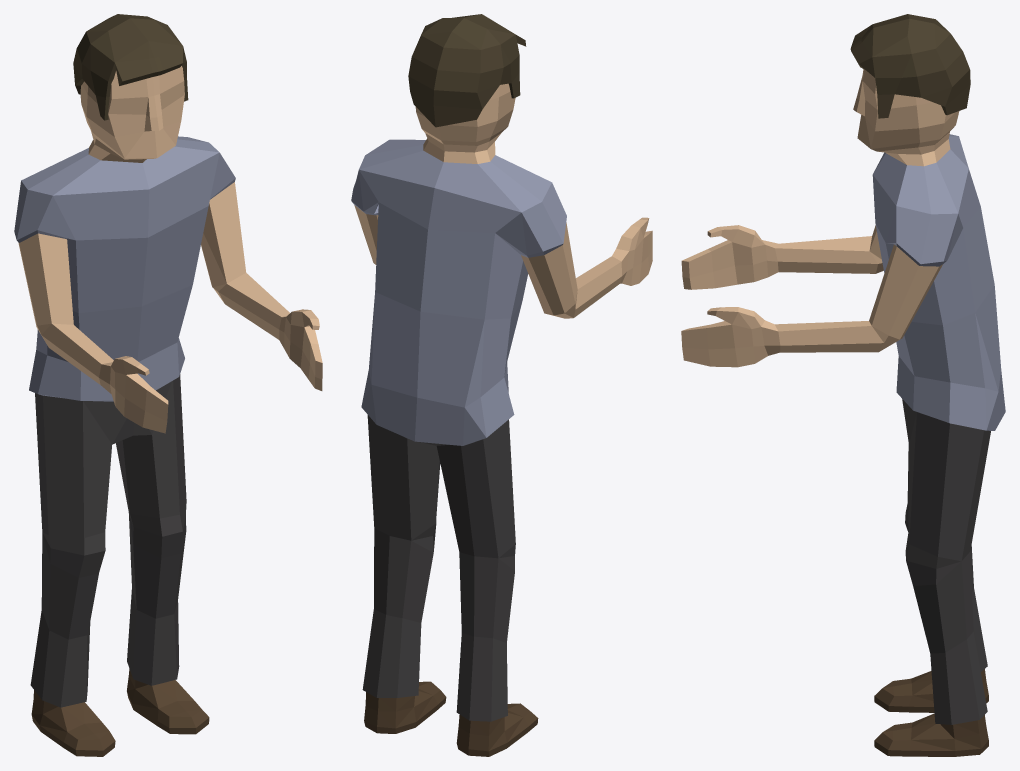
Rendered from Male_Crowd_AtBarrier.glb.
The picture shows the model from 3 angles, left to right: view 1: azimuth 30°, elevation 25°; view 2: azimuth 150°, elevation 25°; view 3: azimuth 270°, elevation 25°; orthographic projection. The views are drawn at different scales.
Parts seen in each view (by area): view 1: Male_Crowd_AtBarrier; view 2: Male_Crowd_AtBarrier; view 3: Male_Crowd_AtBarrier.
Part boxes in pixels (left/top/right/bottom): Male_Crowd_AtBarrier: left=14, top=14, right=322, bottom=756; Male_Crowd_AtBarrier: left=351, top=14, right=652, bottom=756; Male_Crowd_AtBarrier: left=681, top=14, right=1005, bottom=756.
Size of the model in its own units: 0.5648 by 1.79 by 0.7475.
